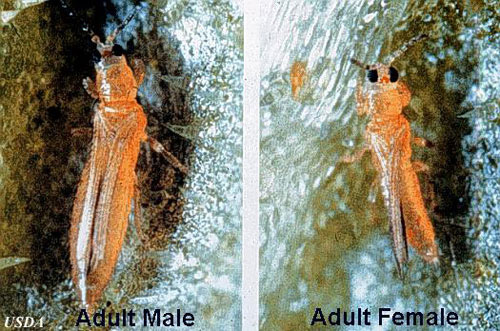Thrips: (330, 63, 454, 278), (75, 35, 143, 307)
